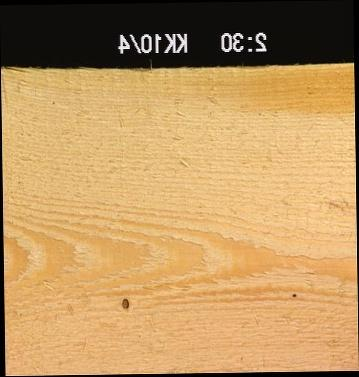dry_knot: (119, 294, 131, 313)
